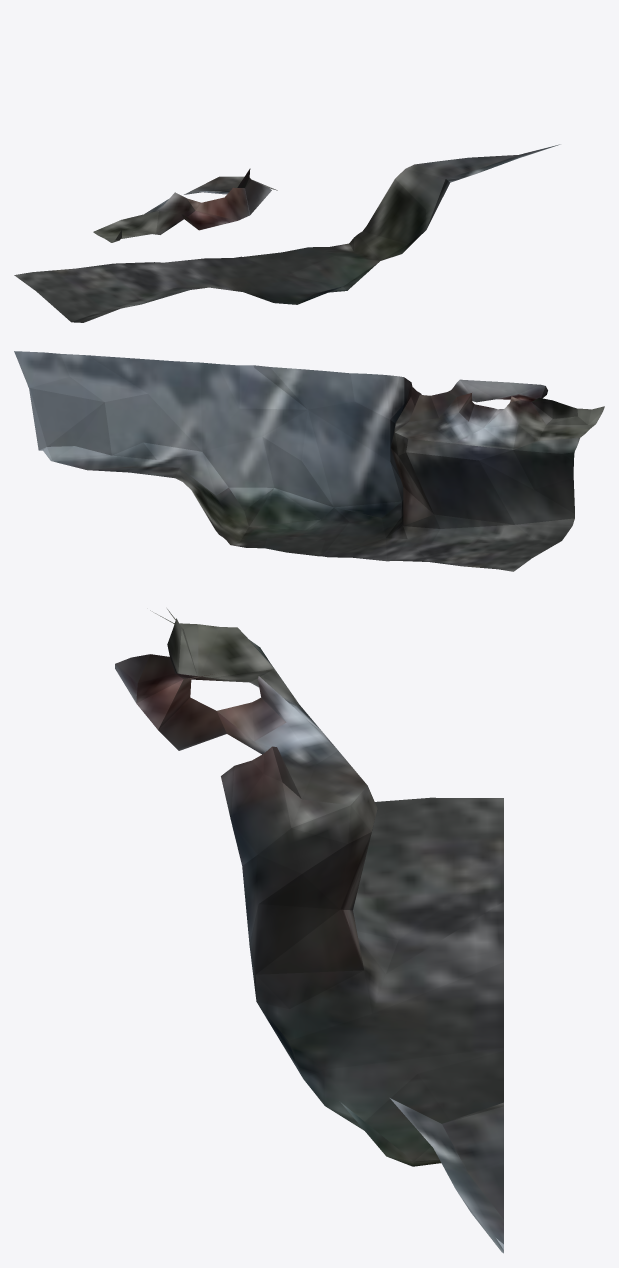
The picture shows the model from 3 angles, top to bottom: view 1: azimuth 30°, elevation 25°; view 2: azimuth 150°, elevation 25°; view 3: azimuth 270°, elevation 25°; orthographic projection. The views are drawn at different scales.
Size of the model in its own units: 2.45 by 0.6669 by 0.826.
1 material, 1 textured.
